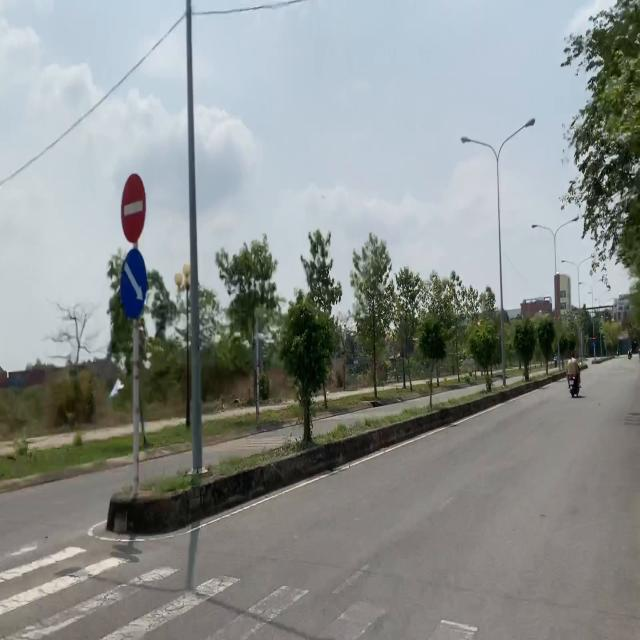Cam nguoc chieu: (120, 172, 147, 246)
Hieu lenh: (118, 244, 149, 322)
